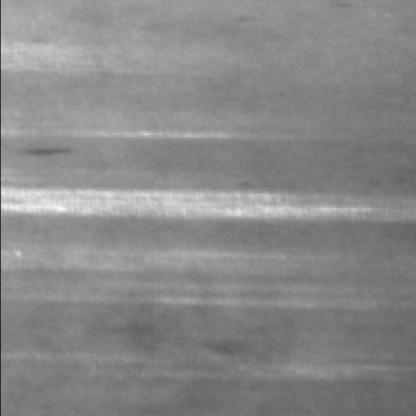scratches: (4, 172, 379, 220)
